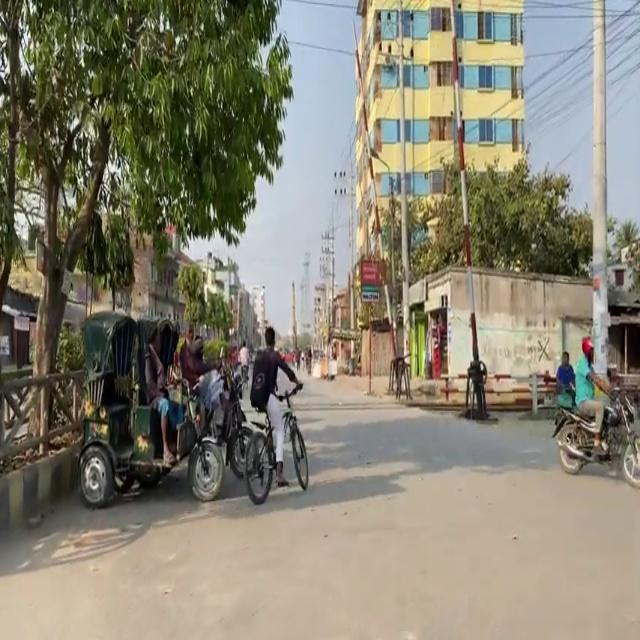Fallen-tree: (550, 381, 639, 485)
Garbage: (75, 310, 176, 508), (527, 371, 557, 415)
Garbage-bin: (250, 326, 303, 486), (574, 337, 612, 455), (555, 351, 576, 410)
Light-pole: (590, 0, 610, 387)
